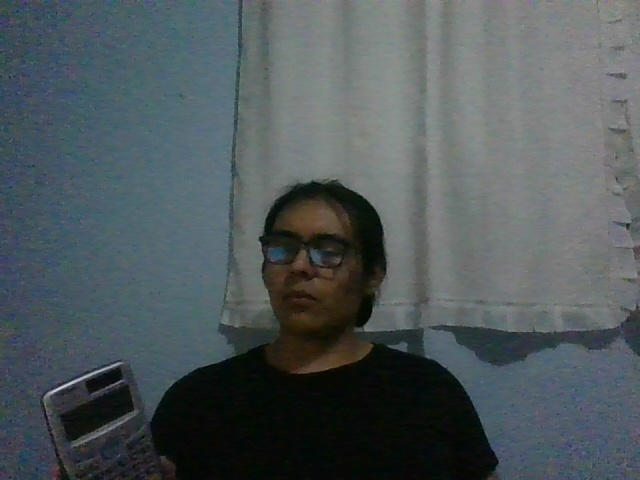calculadora: (40, 360, 165, 480)
